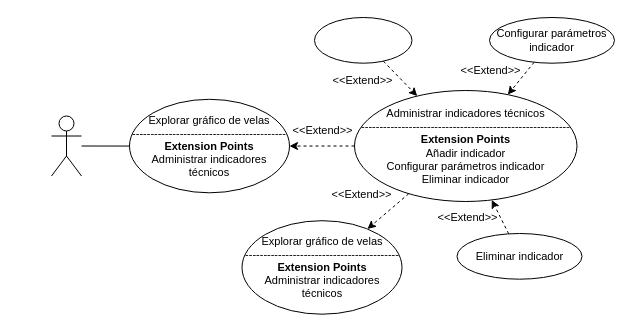
The diagram is 632 pixels wide and 332 high, and some of its shapes have lost their labels. The box of each missing label's shape, as (x1, y1, x2, y2) in pixels:
Añadir indicador: (314, 16, 412, 63)
Usuario Autenticado: (50, 115, 82, 176)
